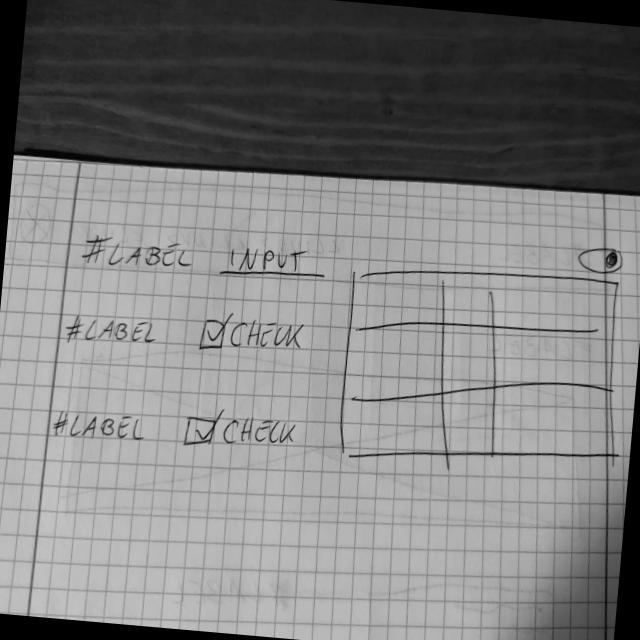checkbox: (182, 409, 301, 458), (198, 309, 310, 361)
input: (216, 236, 330, 288)
label: (80, 231, 196, 279), (51, 405, 147, 449), (63, 310, 160, 350)
table: (335, 255, 634, 485)
toggle: (575, 243, 626, 278)
